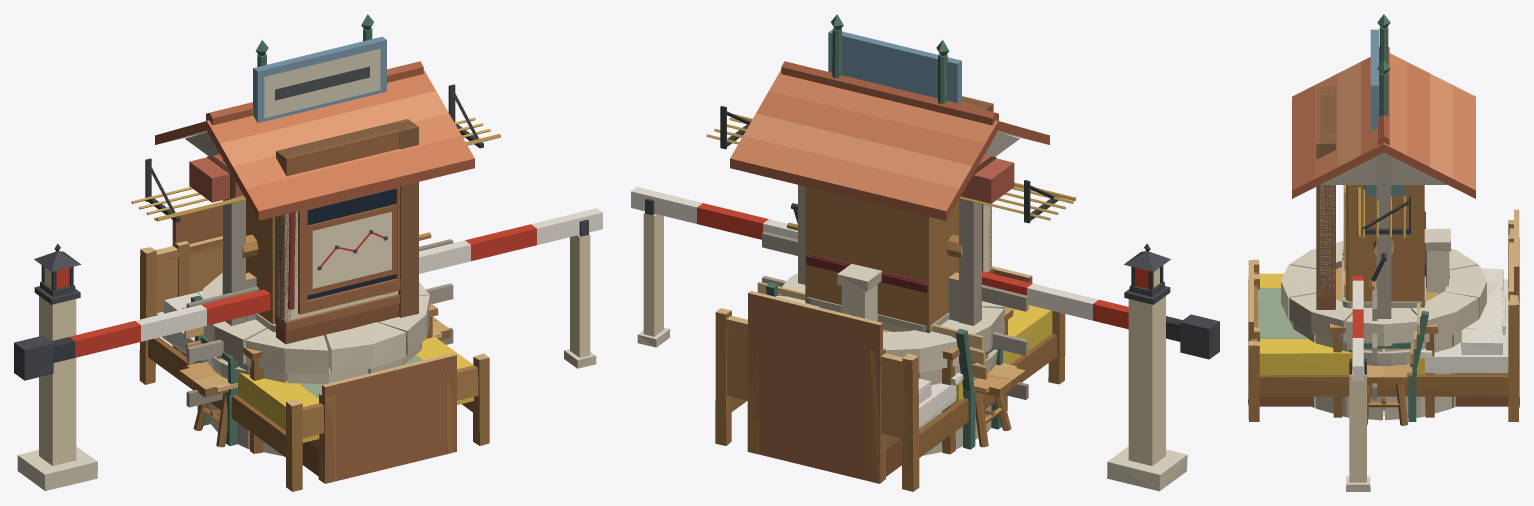
The model's file is aubrune-mobilier.glb.
The picture shows the model from 3 angles, left to right: view 1: azimuth 30°, elevation 25°; view 2: azimuth 150°, elevation 25°; view 3: azimuth 270°, elevation 25°; orthographic projection. The views are drawn at different scales.
Parts seen in each view (by area): view 1: well, bed-double, train-berth, crossing-gate, lisse, platform-sign, train-wall, train-wall-map, train-wall-window, train-luggage-rack, train-wall-corner, train-door (+6 smaller); view 2: well, train-berth, bed-double, wardrobe, crossing-gate, lisse, platform-sign, train-luggage-rack, bench-platform, fence, sink-stone, bed-single (+4 smaller); view 3: well, bed-double, wardrobe, bed-single, train-door, train-berth, crossing-gate, sink-stone, platform-sign, train-luggage-rack, train-wall, bench-farm (+6 smaller).
Part boxes in pixels (x1=…): well: x1=155, y1=61, x2=474, y2=456; bed-double: x1=139, y1=243, x2=489, y2=491; train-berth: x1=172, y1=205, x2=456, y2=483; crossing-gate: x1=17, y1=219, x2=596, y2=490; lisse: x1=14, y1=208, x2=602, y2=380; platform-sign: x1=253, y1=14, x2=386, y2=122; train-wall: x1=276, y1=119, x2=418, y2=380; train-wall-map: x1=307, y1=204, x2=396, y2=295; train-wall-window: x1=288, y1=186, x2=400, y2=314; train-luggage-rack: x1=131, y1=84, x2=500, y2=222; train-wall-corner: x1=389, y1=119, x2=418, y2=317; train-door: x1=276, y1=120, x2=415, y2=338; well: x1=730, y1=61, x2=1049, y2=455; train-berth: x1=748, y1=266, x2=1032, y2=483; bed-double: x1=715, y1=305, x2=1065, y2=491; wardrobe: x1=805, y1=186, x2=958, y2=332; crossing-gate: x1=637, y1=198, x2=1187, y2=491; lisse: x1=631, y1=187, x2=1219, y2=359; platform-sign: x1=828, y1=14, x2=961, y2=104; train-luggage-rack: x1=706, y1=106, x2=1076, y2=223; bench-platform: x1=757, y1=281, x2=1016, y2=449; fence: x1=762, y1=231, x2=1028, y2=399; sink-stone: x1=807, y1=264, x2=949, y2=332; bed-single: x1=747, y1=306, x2=1009, y2=483; well: x1=1280, y1=47, x2=1486, y2=420; bed-double: x1=1248, y1=220, x2=1518, y2=421; wardrobe: x1=1342, y1=185, x2=1424, y2=307; bed-single: x1=1248, y1=234, x2=1519, y2=407; train-door: x1=1320, y1=86, x2=1335, y2=309; train-berth: x1=1248, y1=209, x2=1519, y2=406; crossing-gate: x1=1346, y1=358, x2=1370, y2=491; sink-stone: x1=1342, y1=228, x2=1451, y2=309; platform-sign: x1=1370, y1=14, x2=1390, y2=131; train-luggage-rack: x1=1357, y1=185, x2=1410, y2=238; train-wall: x1=1317, y1=86, x2=1335, y2=309; bench-farm: x1=1363, y1=364, x2=1408, y2=425.
Bounding box in the file's own units: 4.4 × 2.79 × 2.01.
